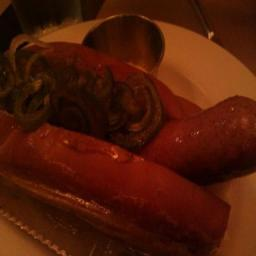hotdog: (150, 104, 255, 182), (224, 81, 254, 115)
